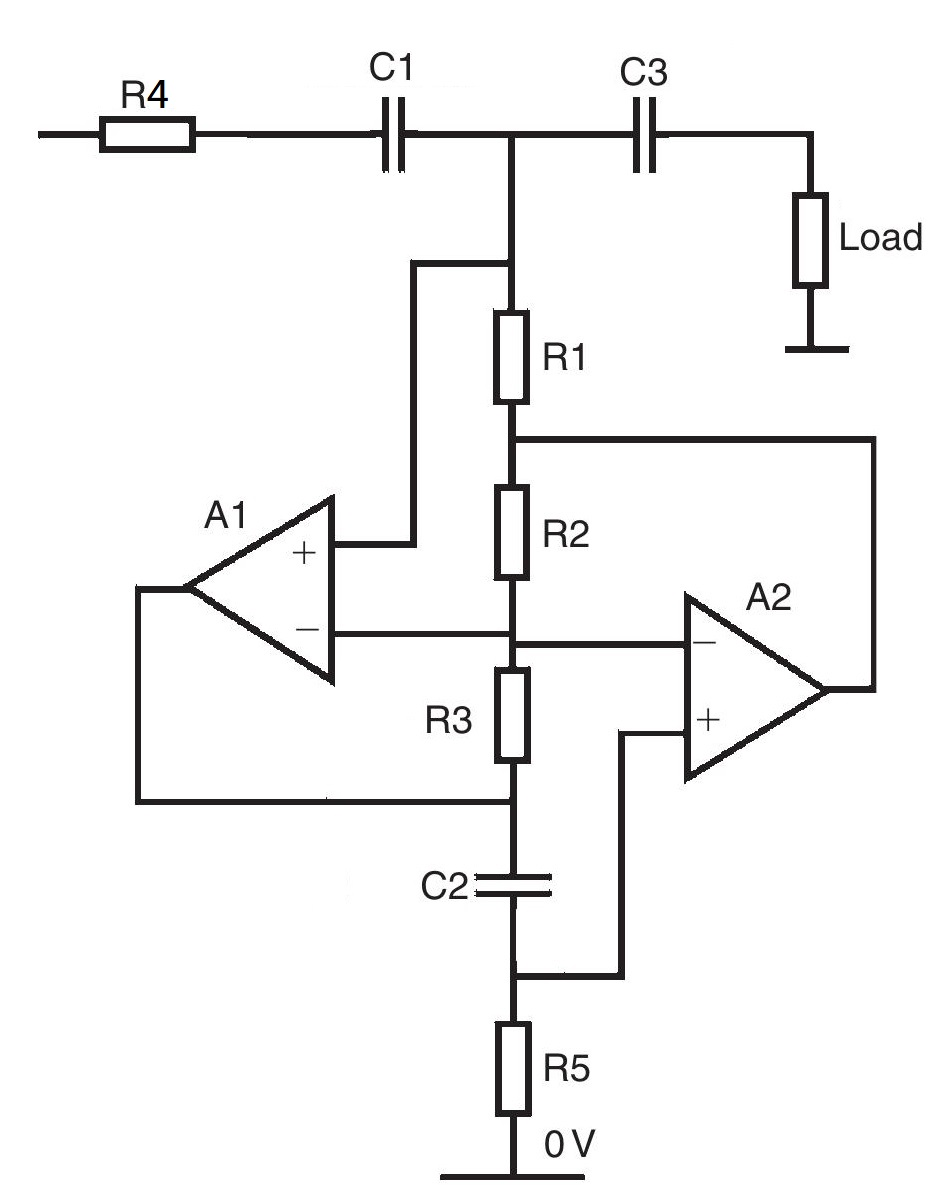capacity: (368, 88, 419, 180), (467, 862, 559, 906), (622, 92, 667, 181)
func: (482, 471, 541, 592), (482, 658, 541, 772), (484, 298, 539, 415), (785, 182, 836, 300), (88, 109, 207, 159), (486, 1010, 539, 1121)
op: (175, 485, 350, 696), (669, 581, 837, 797)
